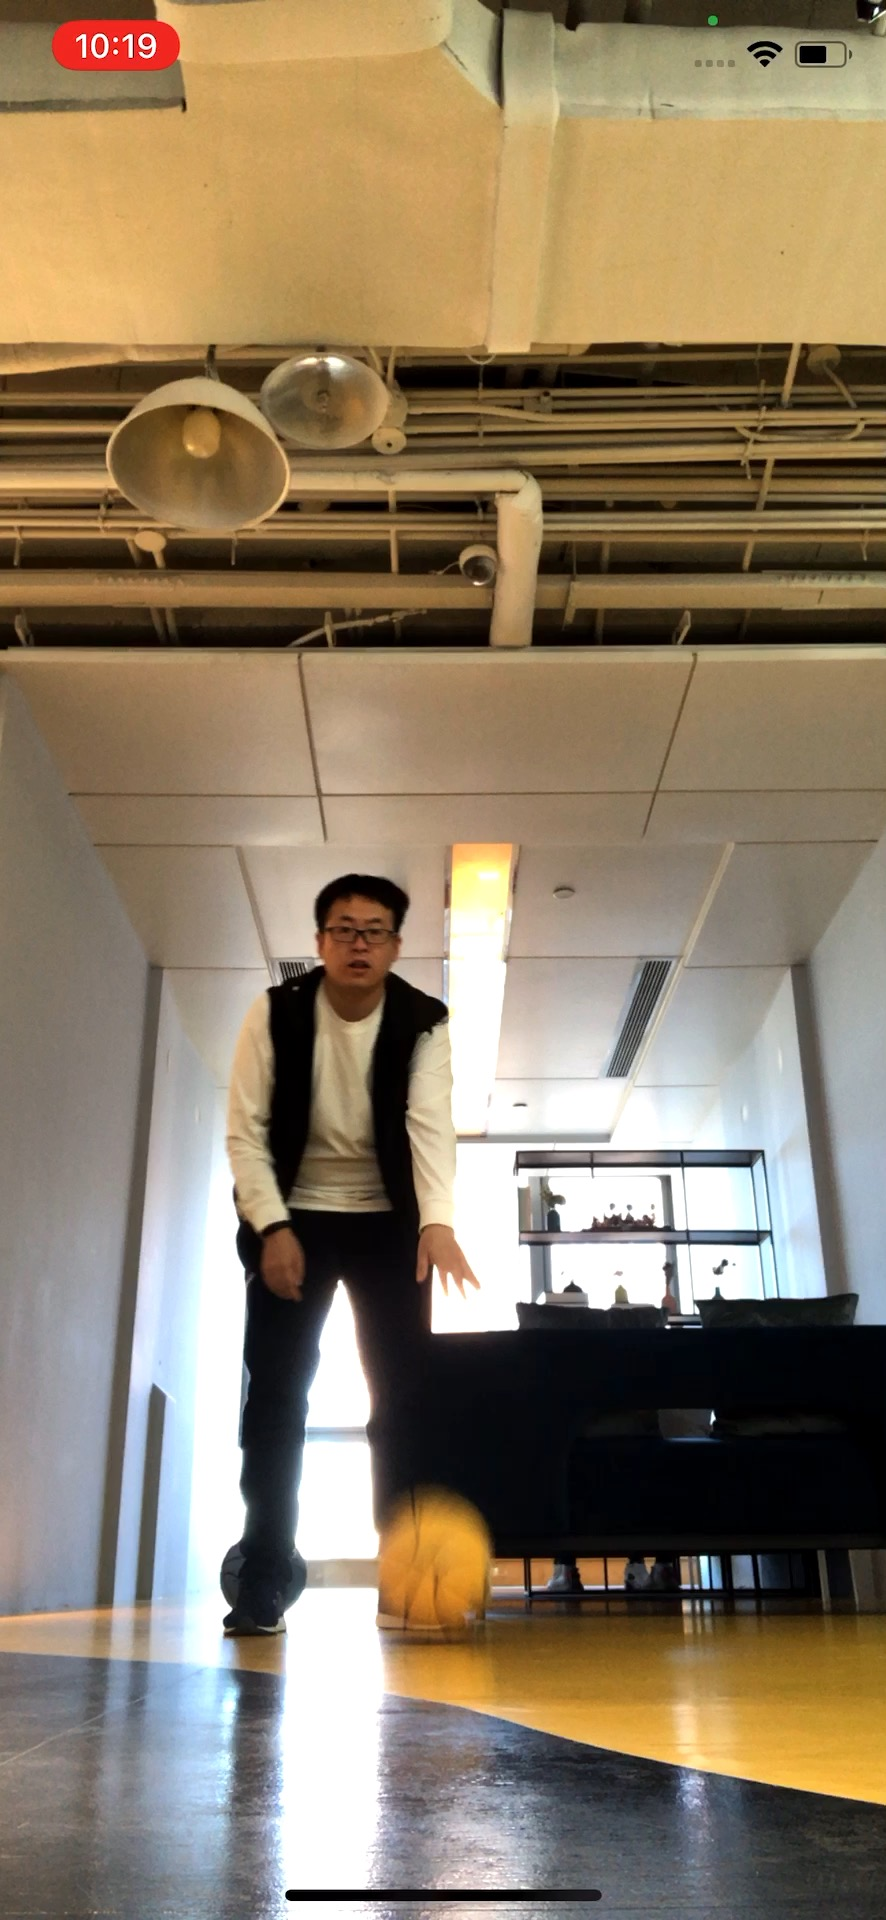ball: (376, 1494, 498, 1625)
